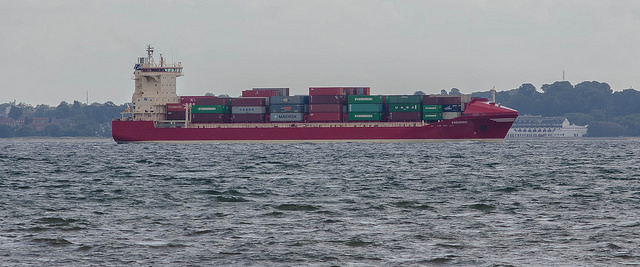container_ship: (114, 51, 517, 144)
